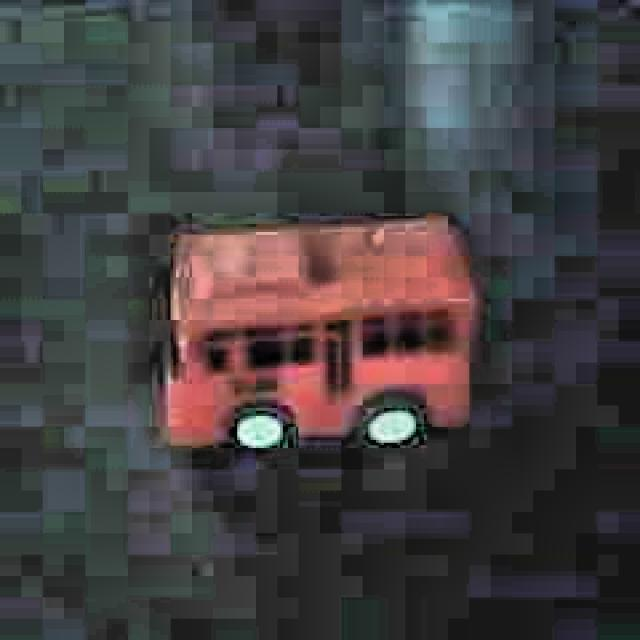bus: (150, 208, 482, 460)
